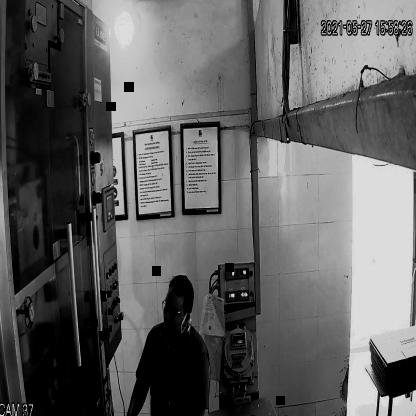goggles: (158, 296, 192, 324)
